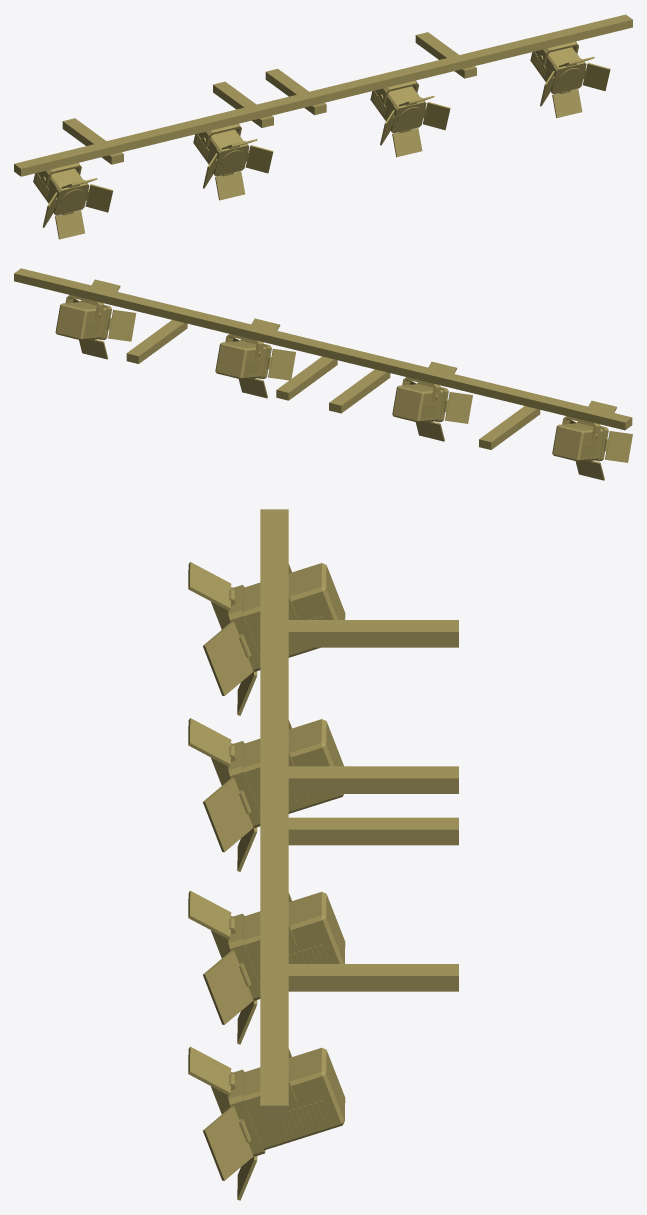
File: Spotlight_Wall.fbx
The picture shows the model from 3 angles, top to bottom: view 1: azimuth 30°, elevation 25°; view 2: azimuth 150°, elevation 25°; view 3: azimuth 270°, elevation 25°; orthographic projection. The views are drawn at different scales.
Visible parts, largest first — view 1: Spotlight_Wall; view 2: Spotlight_Wall; view 3: Spotlight_Wall.
Part boxes in pixels (box(x1,y1,x2,y2)): Spotlight_Wall: box(14, 14, 632, 239); Spotlight_Wall: box(14, 268, 632, 480); Spotlight_Wall: box(188, 509, 458, 1200).
Size of the model in its own units: 562 by 65.9 by 108.
